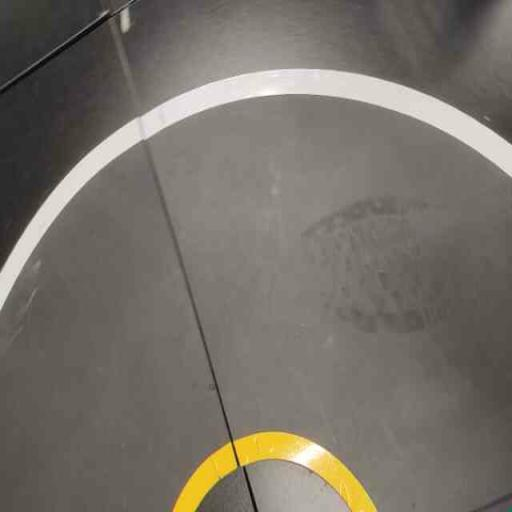left: (50, 64, 511, 506)
